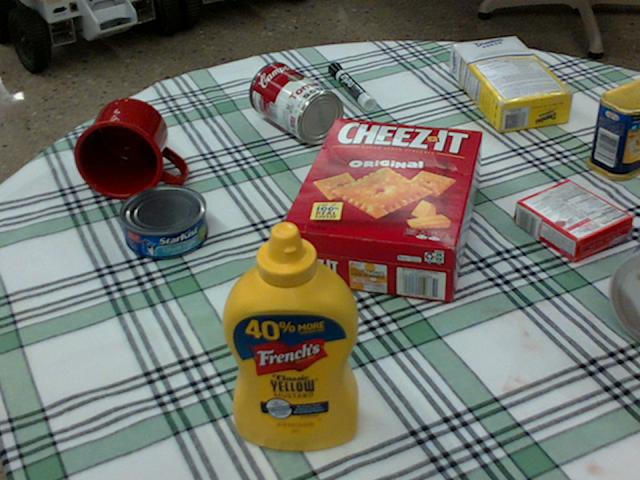cracker_box: (279, 118, 486, 302)
gelatin_box: (514, 179, 629, 259)
large_marker: (327, 62, 374, 109)
master_chef_can: (612, 246, 639, 342)
mug: (74, 98, 185, 198)
mustard_bottle: (222, 220, 360, 449)
potted_meat_can: (585, 77, 639, 180)
sugar_box: (450, 37, 574, 132)
tomato_soup_can: (248, 61, 343, 142)
tuna_fish_can: (117, 184, 206, 258)
